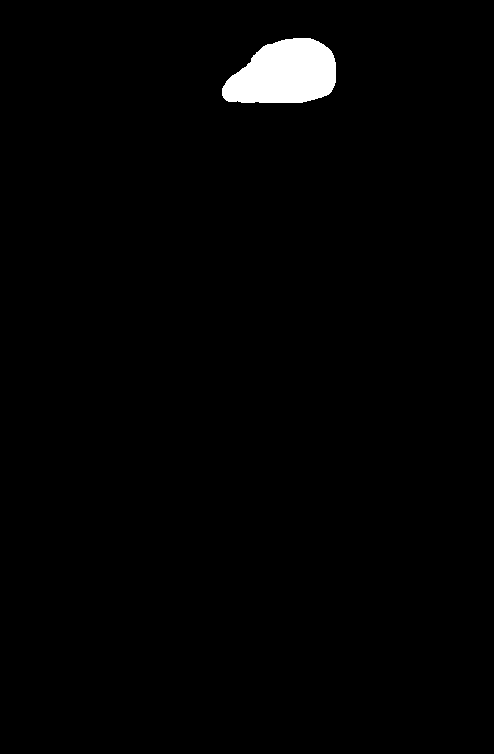veins_detect: (213, 40, 351, 116)
veins_seg: (223, 39, 335, 103)
